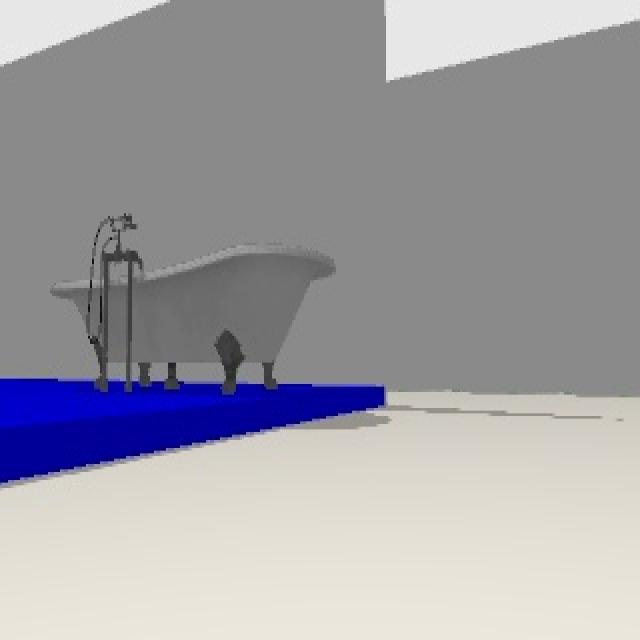bathtub: (56, 209, 334, 391)
